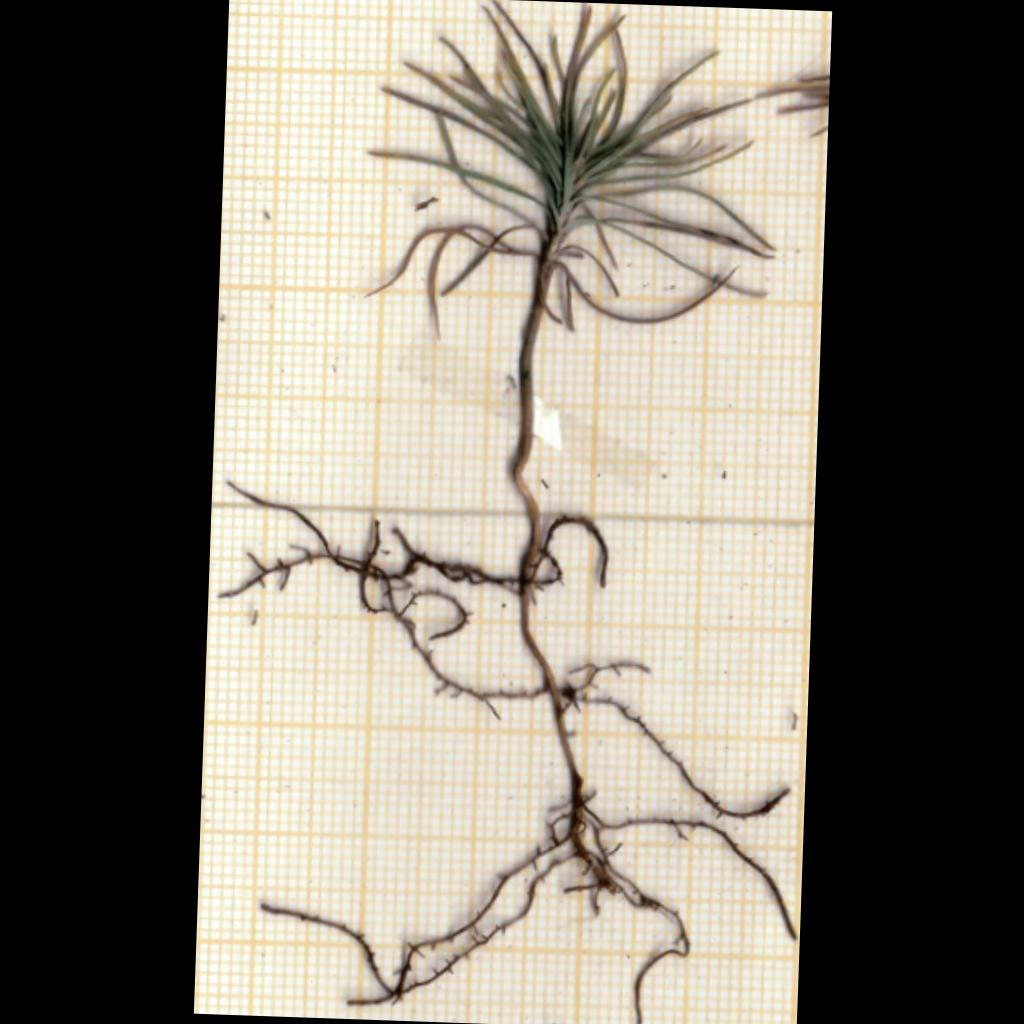flowerCedr: (371, 0, 775, 329)
rootCedr: (222, 485, 690, 1023)
stemCedr: (512, 266, 551, 539)
